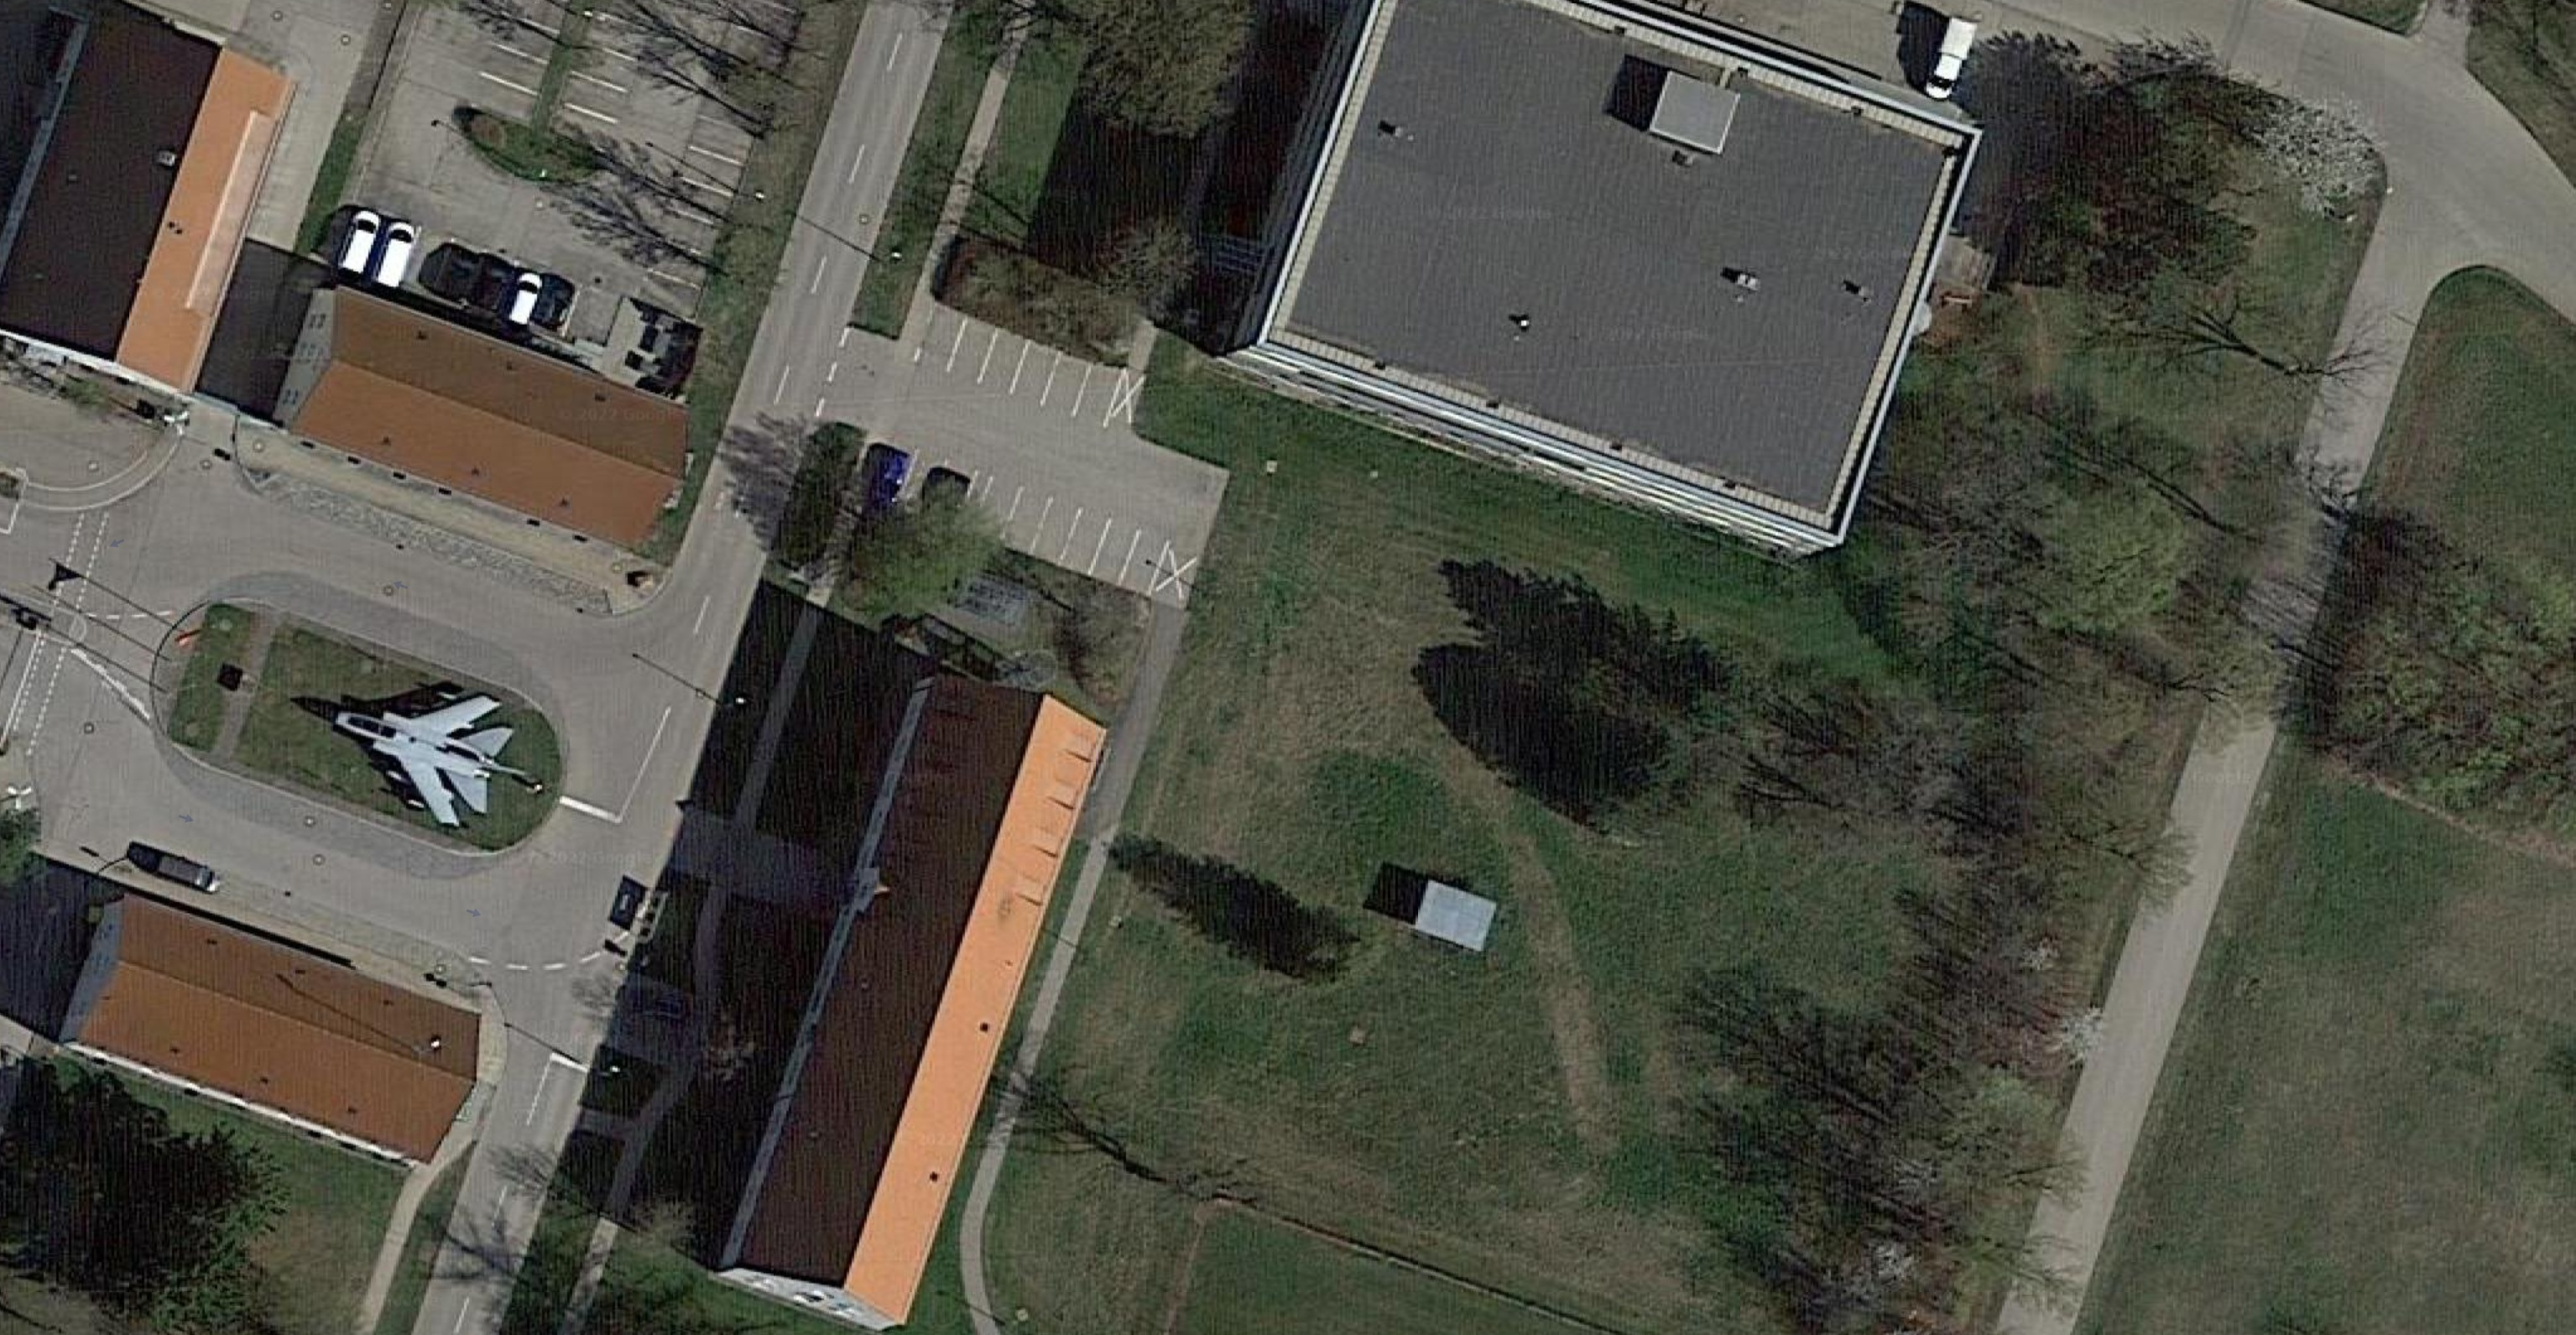Tornado: (306, 691, 530, 828)
